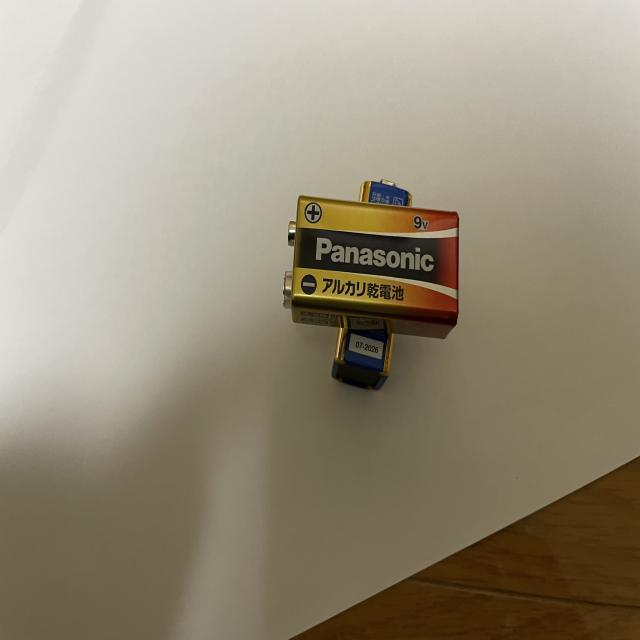9V: (283, 189, 460, 341), (333, 176, 412, 391)
